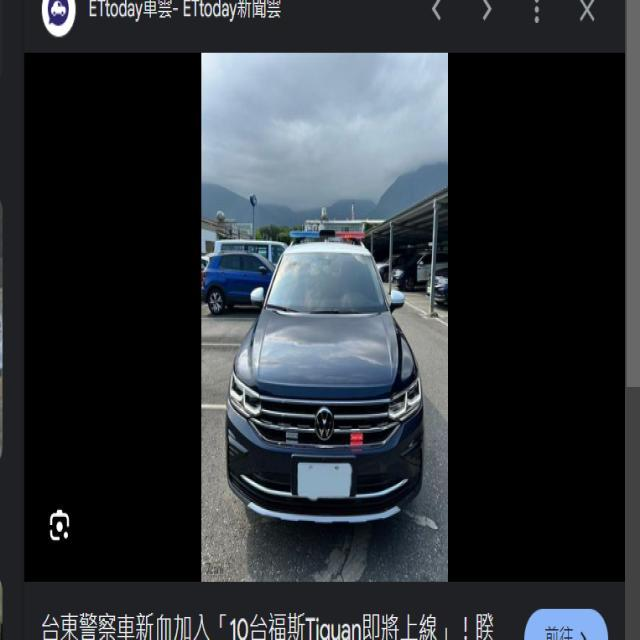police_car: (241, 212, 433, 533)
